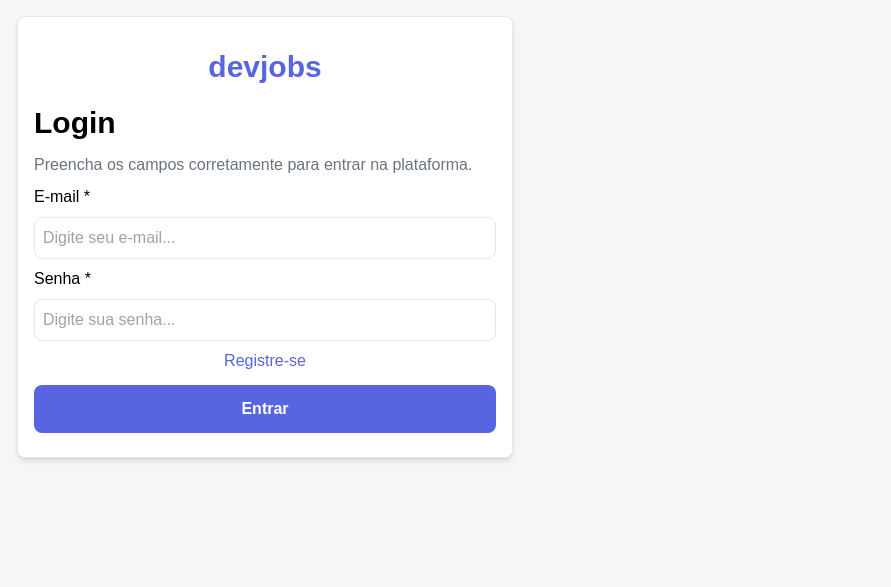
Scenario: Login tests › should return an error if credentials are invalid
The width and height of the screenshot is (891, 587).
Type "testgmail.com" into the field with id "email".
click(265, 238); type("testgmail.com")  # box [34,217,496,259]
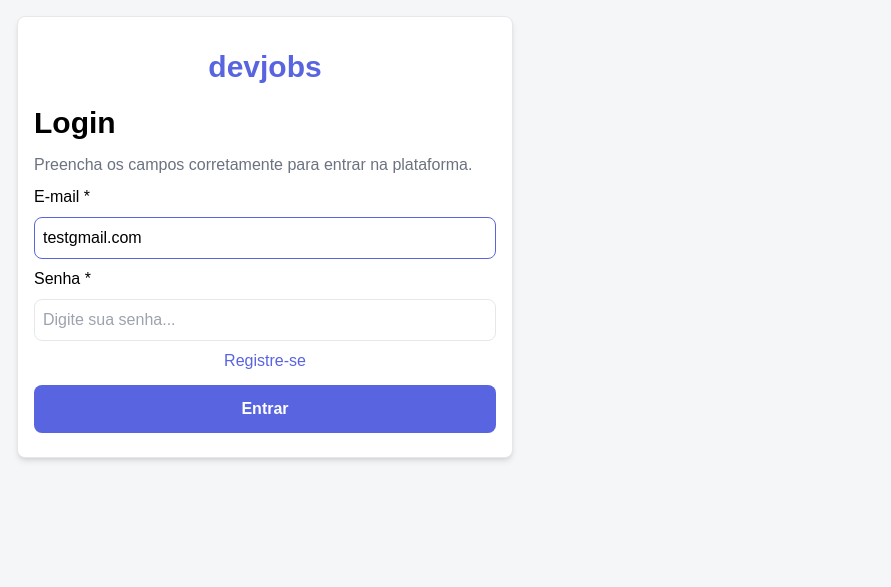
Type "123456" into the password field labelled "Senha *".
click(265, 320); type("123456")  # box [34,299,496,341]
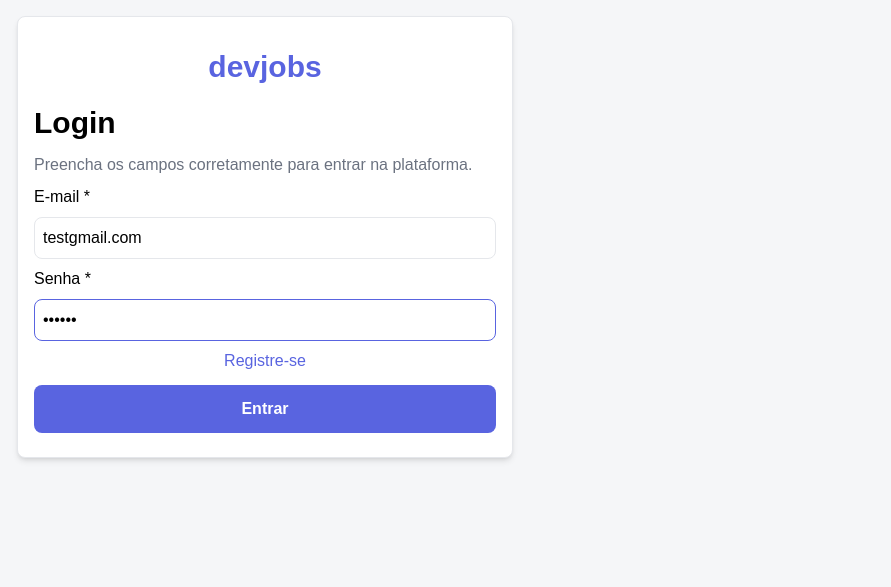
Submit the form, box [17,16,513,458]
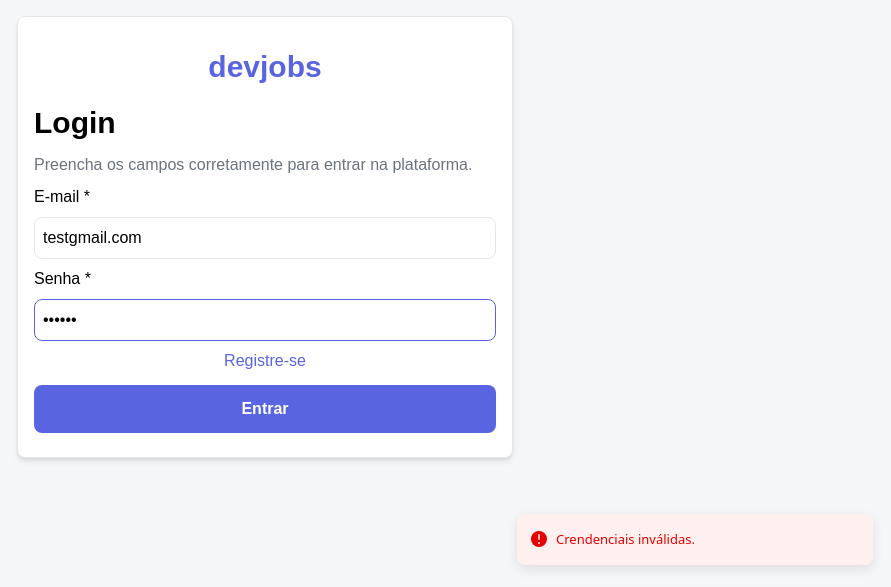
Result: the text "Crendenciais inválidas." is shown at [556,530,695,549]
